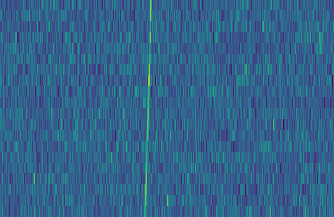signal: (139, 0, 154, 217)
